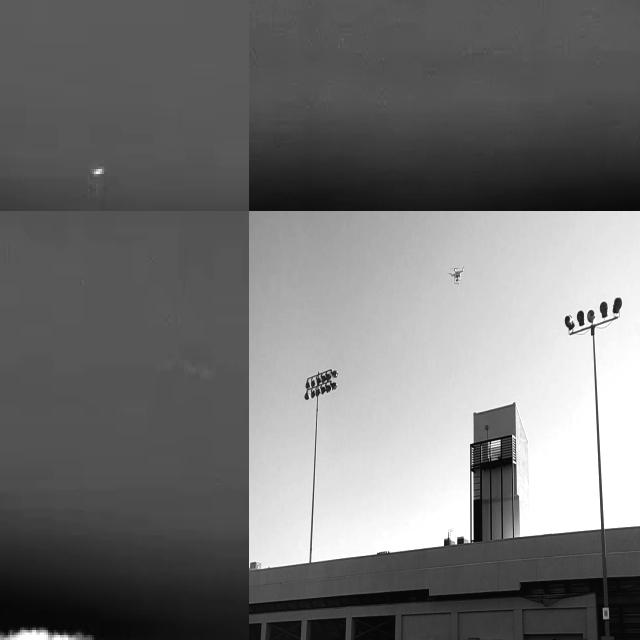1: (78, 154, 118, 199)
drone: (450, 261, 466, 286)
